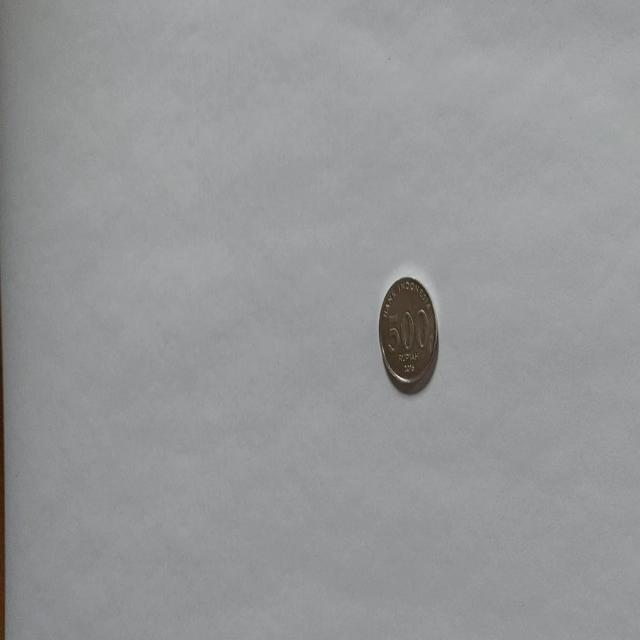lima ratus rupiah: (377, 274, 439, 394)
